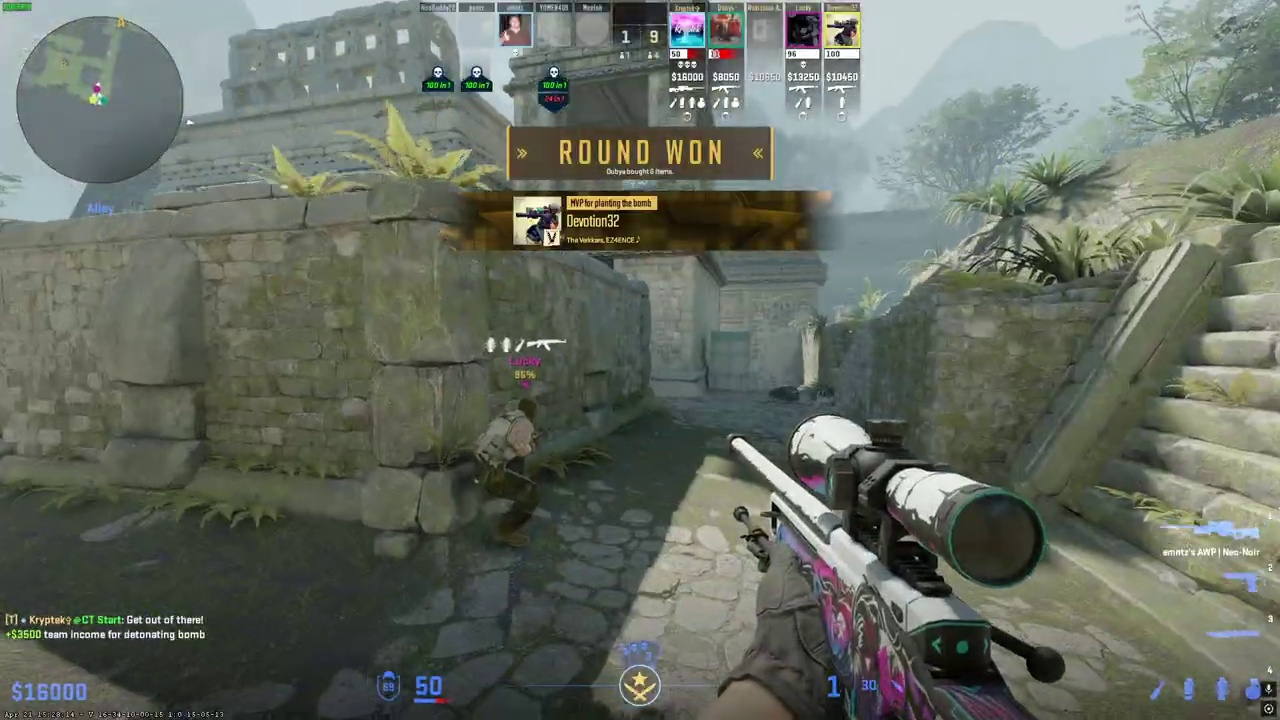Terrorist: (475, 397, 545, 547)
